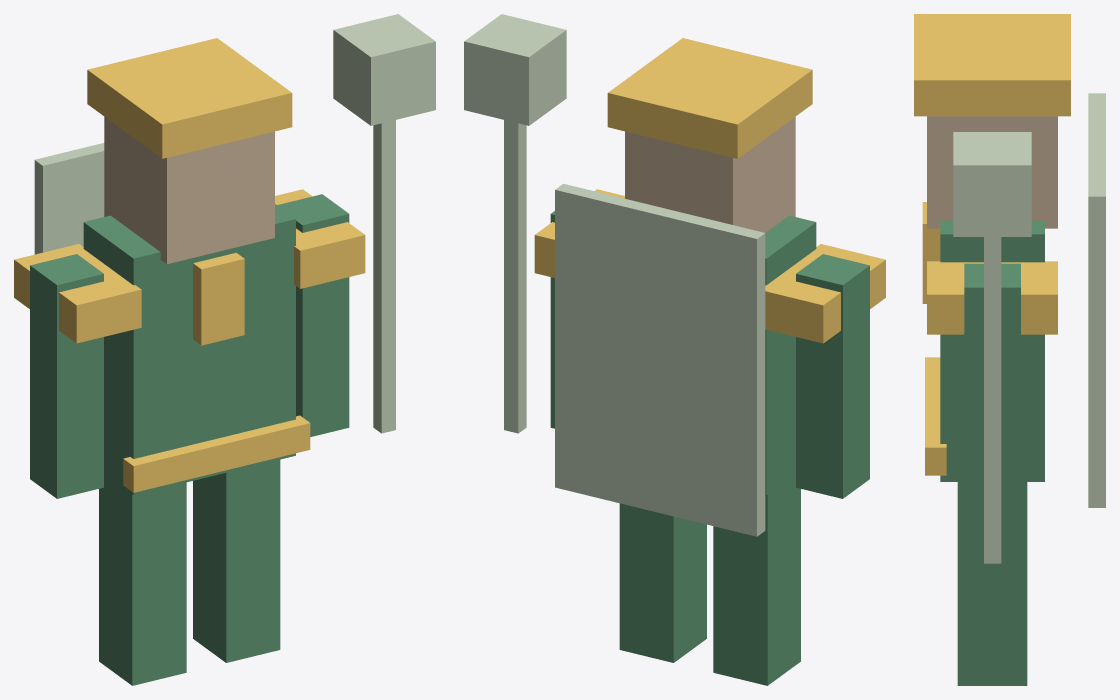
File: 14_orin_echohand_fixer_near_dub.glb
The picture shows the model from 3 angles, left to right: view 1: azimuth 30°, elevation 25°; view 2: azimuth 150°, elevation 25°; view 3: azimuth 270°, elevation 25°; orthographic projection. The views are drawn at different scales.
Parts seen in each view (by area): view 1: Orin Echohand, Fixer near Dub; view 2: Orin Echohand, Fixer near Dub; view 3: Orin Echohand, Fixer near Dub.
Boxes of the visible parts, x1,y1,x2,y2 form: Orin Echohand, Fixer near Dub: (14,14,435,685); Orin Echohand, Fixer near Dub: (464,14,885,685); Orin Echohand, Fixer near Dub: (914,14,1105,685).
Size of the model in its own units: 1.09 by 1.61 by 0.4644.
